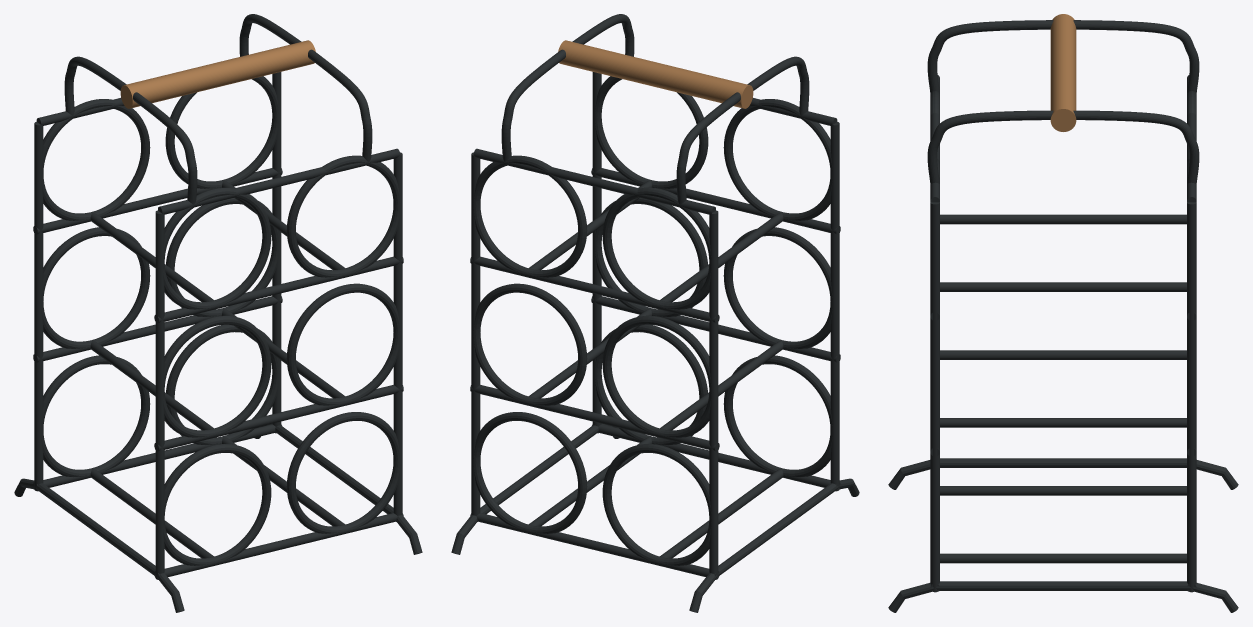
The model's file is full.fbx.
3 views of the same model, side by side, from view 1: azimuth 30°, elevation 25°; view 2: azimuth 150°, elevation 25°; view 3: azimuth 270°, elevation 25° (orthographic). The views are drawn at different scales.
Visible parts, largest first — view 1: Wooden carry grip, Outer vertical upright -0.136-0.12, Outer vertical upright -0.1360.12, Bottle hoop 0.075-0.120.23, Bottle hoop 0.075-0.120.09, Bottle hoop 0.075-0.120.37, Bottle hoop -0.075-0.120.23, Bottle hoop -0.075-0.120.09, Outer vertical upright 0.136-0.12, Bottle hoop -0.075-0.120.37, Bottle hoop -0.0750.120.37, Bottle hoop -0.0750.120.23 (+23 smaller); view 2: Wooden carry grip, Outer vertical upright -0.1360.12, Outer vertical upright -0.136-0.12, Bottle hoop 0.0750.120.23, Bottle hoop 0.0750.120.09, Bottle hoop 0.0750.120.37, Bottle hoop -0.0750.120.23, Bottle hoop -0.0750.120.09, Outer vertical upright 0.1360.12, Bottle hoop -0.0750.120.37, Bottle hoop -0.075-0.120.37, Bottle hoop -0.075-0.120.23 (+23 smaller); view 3: Outer vertical upright 0.136-0.12, Outer vertical upright 0.1360.12, Raised handle upright 1, Bowed foot bar 1, Raised handle upright -1, Bowed foot bar -1, Wooden carry grip, Channel connecting rail -0.0750.37, Channel connecting rail 0.0750.09, Channel connecting rail -0.0750.09, Channel connecting rail -0.0750.23, Channel connecting rail 0.0750.23 (+1 smaller).
Boxes of the visible parts, x1,y1,x2,y2 form: Wooden carry grip: (120, 40, 315, 108); Outer vertical upright -0.136-0.12: (155, 210, 164, 579); Outer vertical upright -0.1360.12: (34, 121, 43, 491); Bottle hoop 0.075-0.120.23: (286, 283, 400, 405); Bottle hoop 0.075-0.120.09: (286, 412, 400, 533); Bottle hoop 0.075-0.120.37: (286, 155, 400, 277); Bottle hoop -0.075-0.120.23: (160, 315, 271, 437); Bottle hoop -0.075-0.120.09: (160, 444, 271, 565); Outer vertical upright 0.136-0.12: (393, 152, 402, 521); Bottle hoop -0.075-0.120.37: (160, 187, 271, 309); Bottle hoop -0.0750.120.37: (41, 99, 150, 220); Bottle hoop -0.0750.120.23: (41, 227, 150, 348); Wooden carry grip: (558, 40, 753, 108); Outer vertical upright -0.1360.12: (709, 210, 718, 579); Outer vertical upright -0.136-0.12: (830, 121, 839, 491); Bottle hoop 0.0750.120.23: (473, 283, 587, 405); Bottle hoop 0.0750.120.09: (473, 412, 587, 533); Bottle hoop 0.0750.120.37: (473, 155, 587, 277); Bottle hoop -0.0750.120.23: (602, 315, 713, 437); Bottle hoop -0.0750.120.09: (602, 444, 713, 565); Outer vertical upright 0.1360.12: (471, 152, 480, 521); Bottle hoop -0.0750.120.37: (602, 187, 713, 309); Bottle hoop -0.075-0.120.37: (723, 99, 832, 220); Bottle hoop -0.075-0.120.23: (723, 227, 832, 348); Outer vertical upright 0.136-0.12: (930, 202, 939, 591); Outer vertical upright 0.1360.12: (1187, 202, 1196, 591); Raised handle upright 1: (927, 110, 1199, 184); Bowed foot bar 1: (888, 581, 1238, 612); Raised handle upright -1: (927, 20, 1199, 93); Bowed foot bar -1: (888, 458, 1238, 489); Wooden carry grip: (1050, 14, 1076, 131); Channel connecting rail -0.0750.37: (940, 214, 1186, 224); Channel connecting rail 0.0750.09: (940, 553, 1186, 563); Channel connecting rail -0.0750.09: (940, 486, 1186, 495); Channel connecting rail -0.0750.23: (940, 350, 1186, 359); Channel connecting rail 0.0750.23: (940, 418, 1186, 427).
Bounding box in the file's own units: 28.1 × 50.49 × 32.76.
